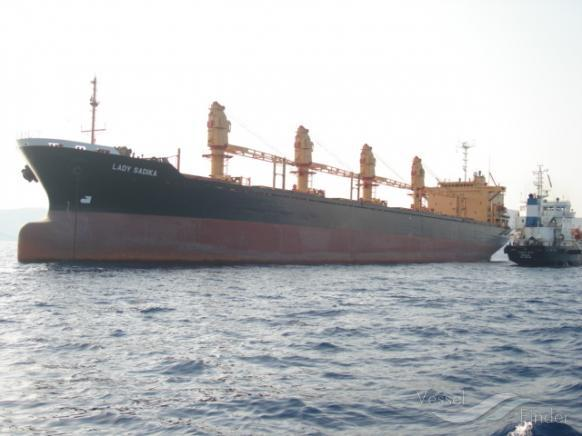OCR: (108, 160, 164, 182)
